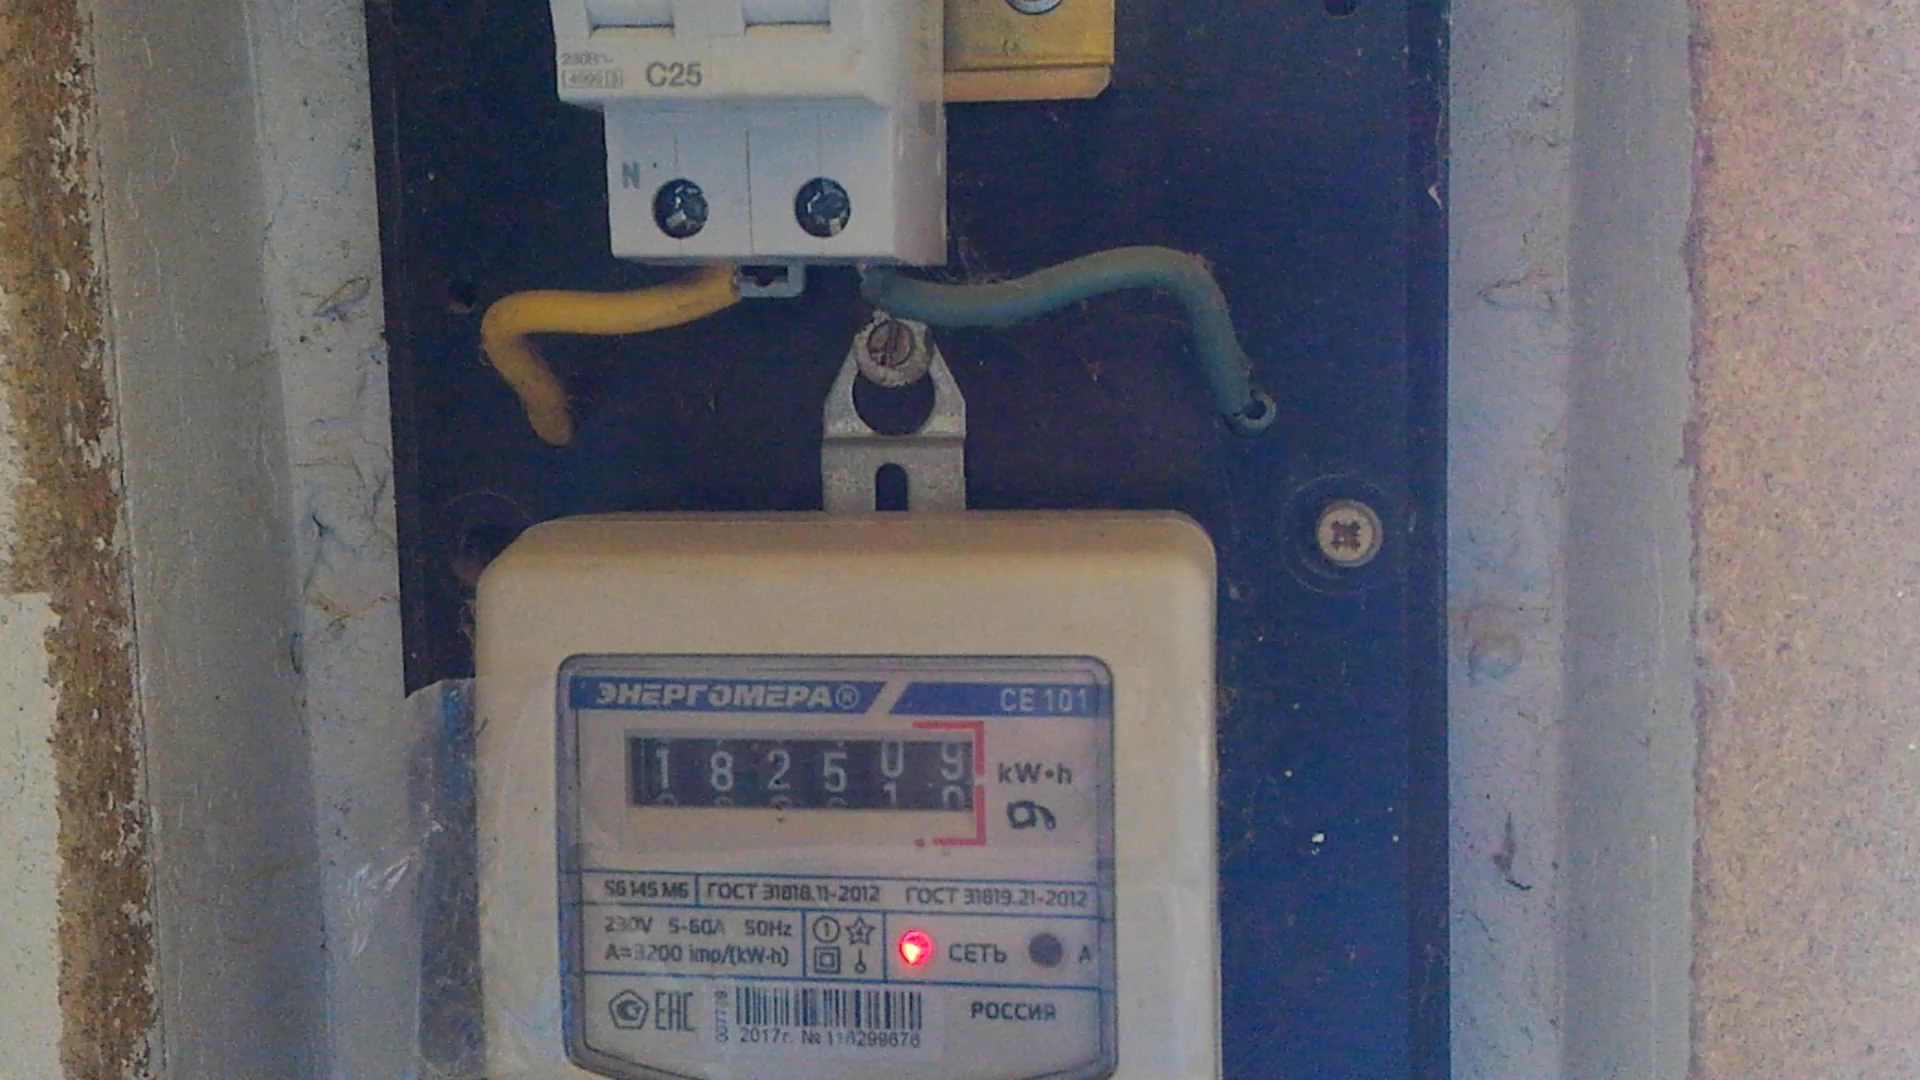counter: (473, 564, 1218, 1077)
counter_screen: (624, 731, 976, 815)
